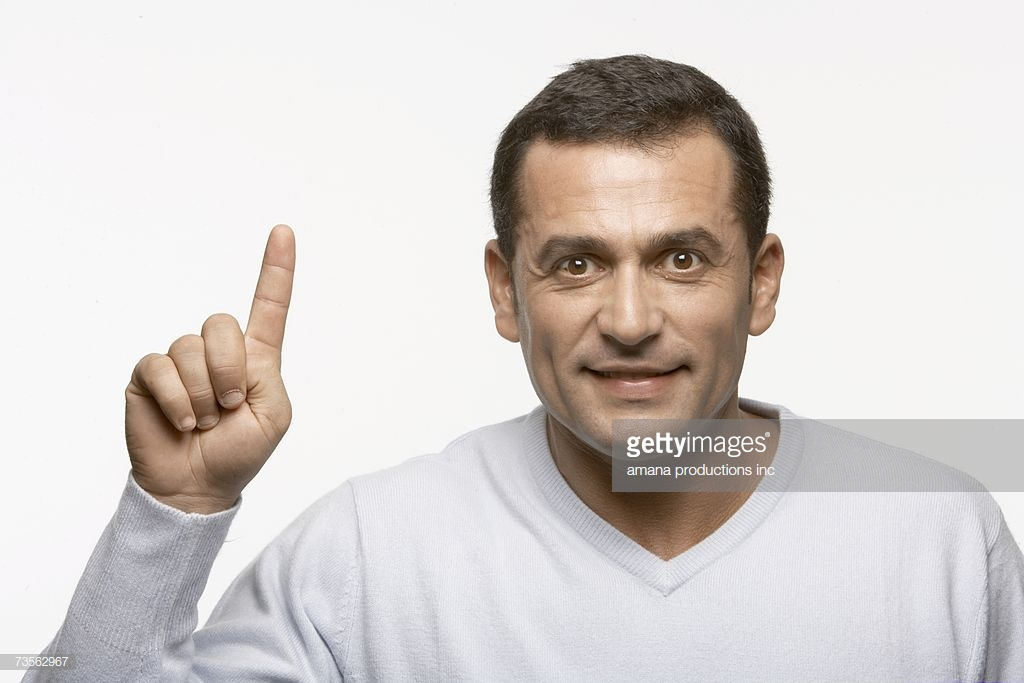move: (126, 224, 293, 502)
